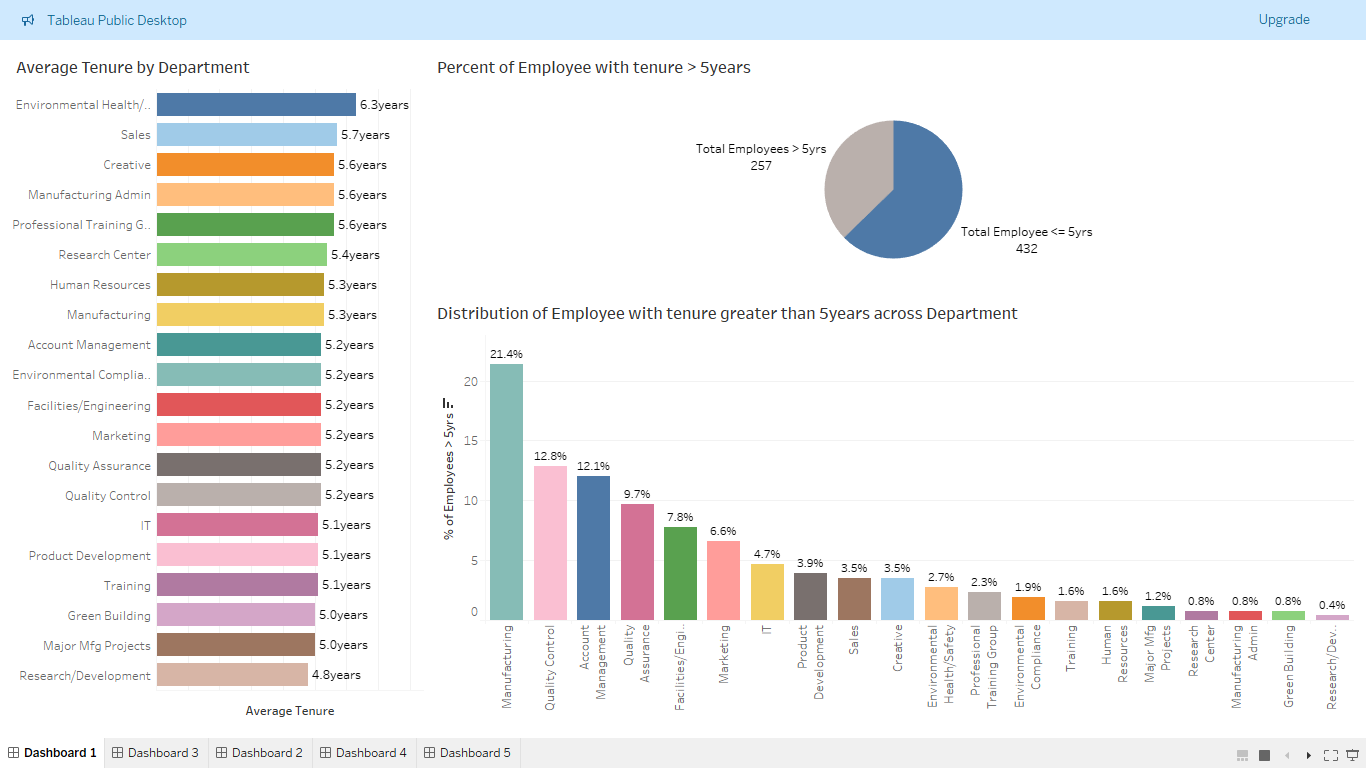

What the dashboard file says about the page in this screenshot:
{"tool":"tableau","page":{"name":"Dashboard 1","canvas":[1000,1000],"units":"permille","ordinal":0},"visuals":[{"type":"worksheet","title":"Sheet 1","mark":"Automatic","rows":["department"],"cols":["average_tenure"],"box":[6.9,13.5,307.2,973]},{"type":"worksheet","title":"Sheet 2","mark":"Pie","box":[314.2,13.5,678.9,351.2]},{"type":"worksheet","title":"Sheet 13","mark":"Automatic","rows":["% of Employees > 5yrs"],"cols":["department"],"box":[314.2,364.7,678.9,621.8]}]}

Visuals, with their boxes on the dashboard's canvas, which has no fixed pixel size, in thousandths of its width and height (x1, y1, x2, y2). These are canvas units, not pixel positions in the 1366x768 screenshot, which may show the page scaled, cropped or inside an application window:
"Sheet 1" worksheet: Rect(7, 14, 314, 986)
"Sheet 2" worksheet (Pie marks): Rect(314, 14, 993, 365)
"Sheet 13" worksheet: Rect(314, 365, 993, 986)
